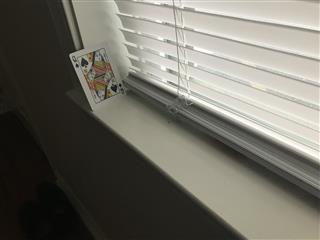QueenOfSpades: (67, 41, 127, 111)
